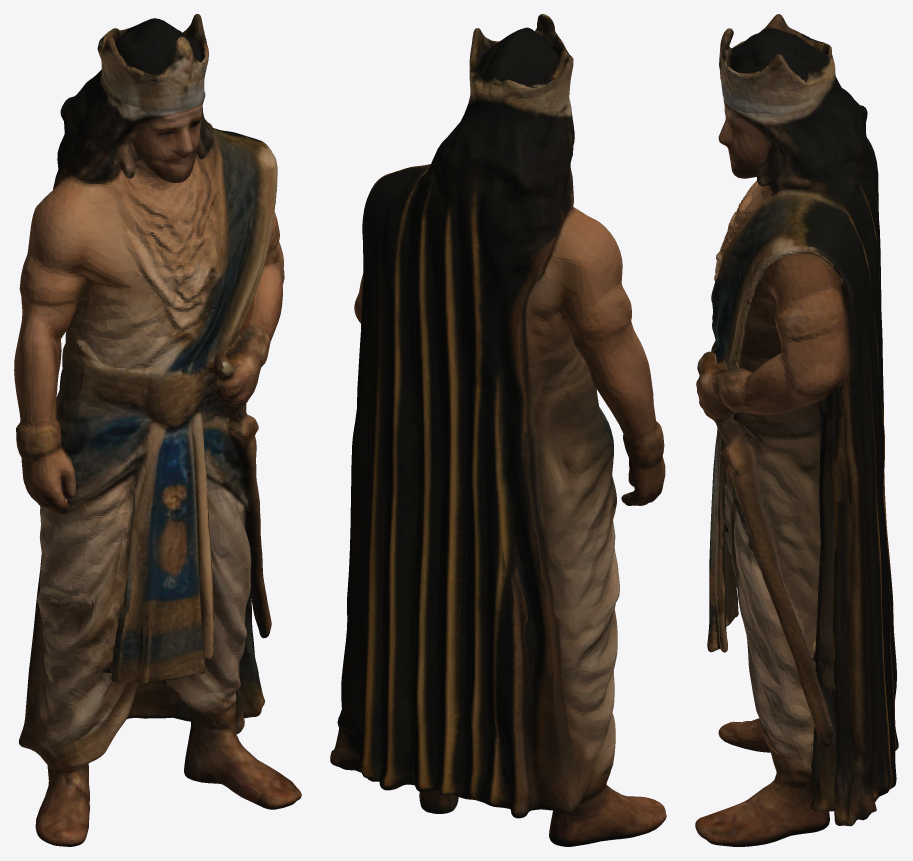
Rendered from hero.glb.
The picture shows the model from 3 angles, left to right: view 1: azimuth 30°, elevation 25°; view 2: azimuth 150°, elevation 25°; view 3: azimuth 270°, elevation 25°; orthographic projection. The views are drawn at different scales.
Parts seen in each view (by area): view 1: world; view 2: world; view 3: world.
Boxes of the visible parts, <box> form: world: <box>14,14,301,846</box>; world: <box>330,14,666,846</box>; world: <box>695,14,898,846</box>.
Bounding box in the file's own units: 0.7499 × 1.97 × 0.4748.
1 material, 1 textured.
